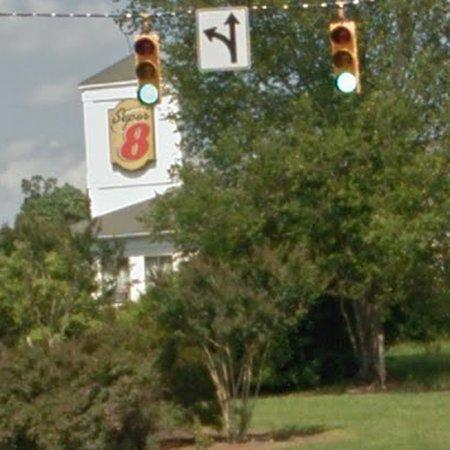traffic lights: (327, 18, 364, 99), (134, 31, 162, 107)
